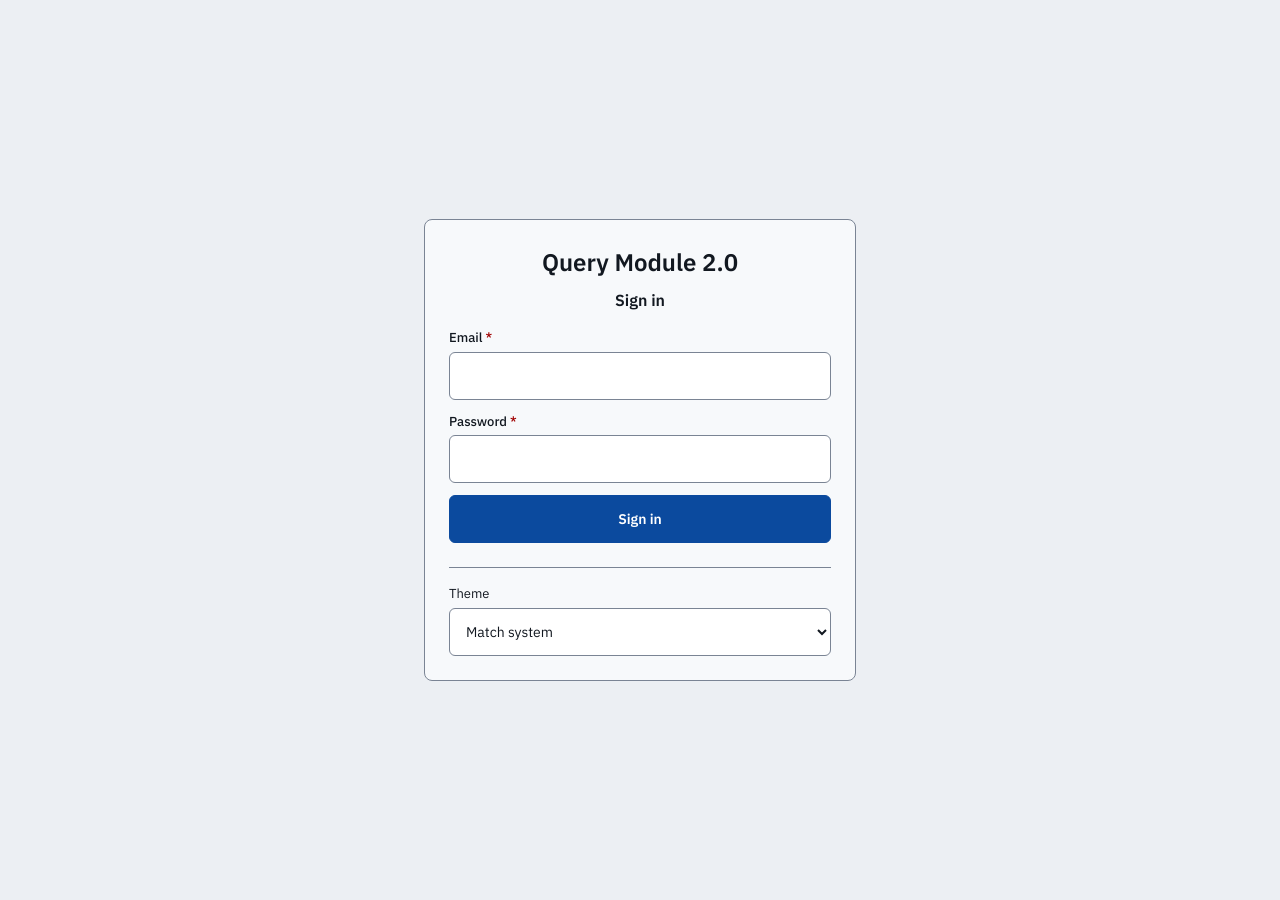
Test: sign-in: a slow preferences load does not pull the user back › a page opened while the preferences load is still pending stays open after it lands
In the field labelled "Email *": [640, 376] box [449, 352, 831, 400], type "tester@querymodule.test"
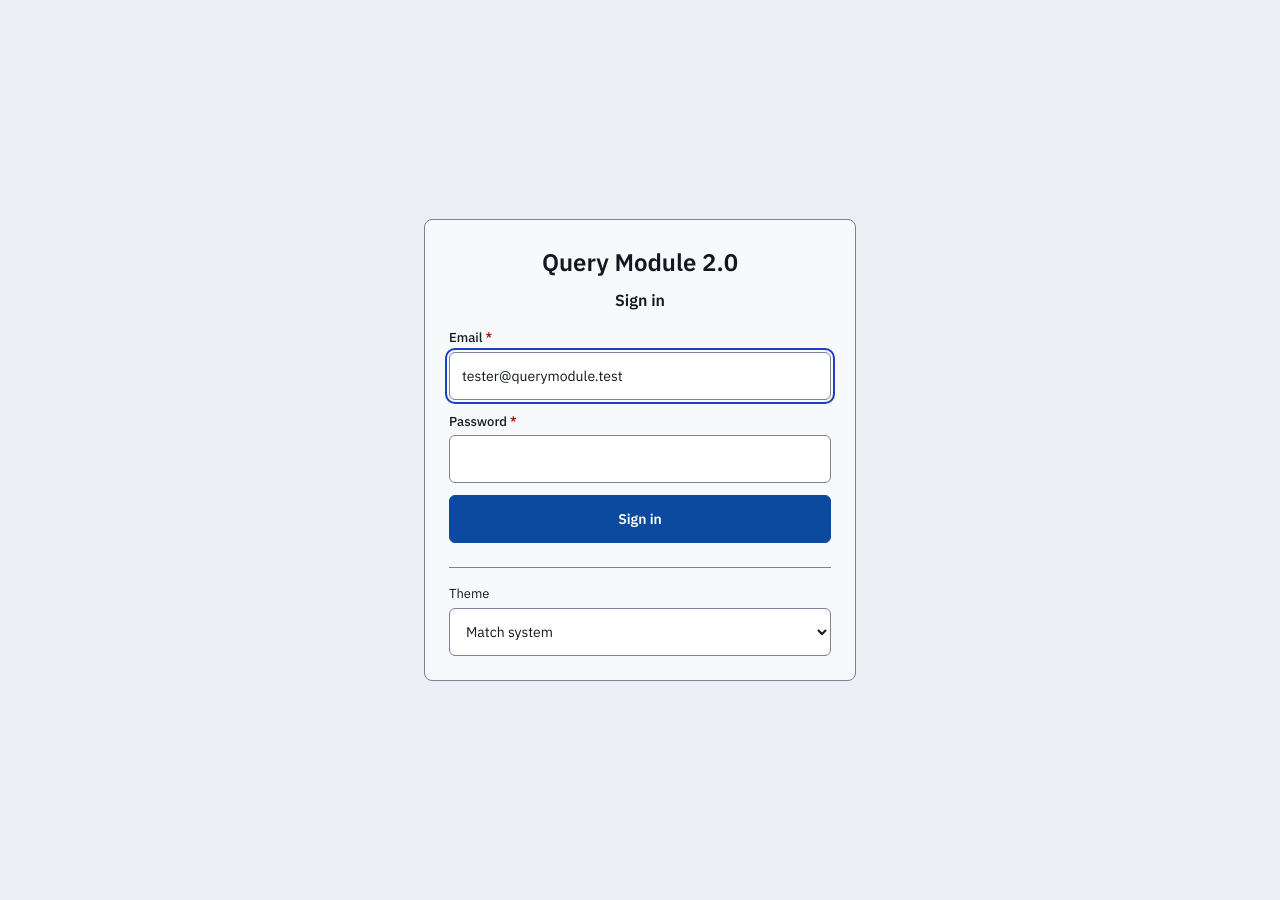
In the password field labelled "Password *": [640, 459] box [449, 435, 831, 483], type "fixture-only-pass"
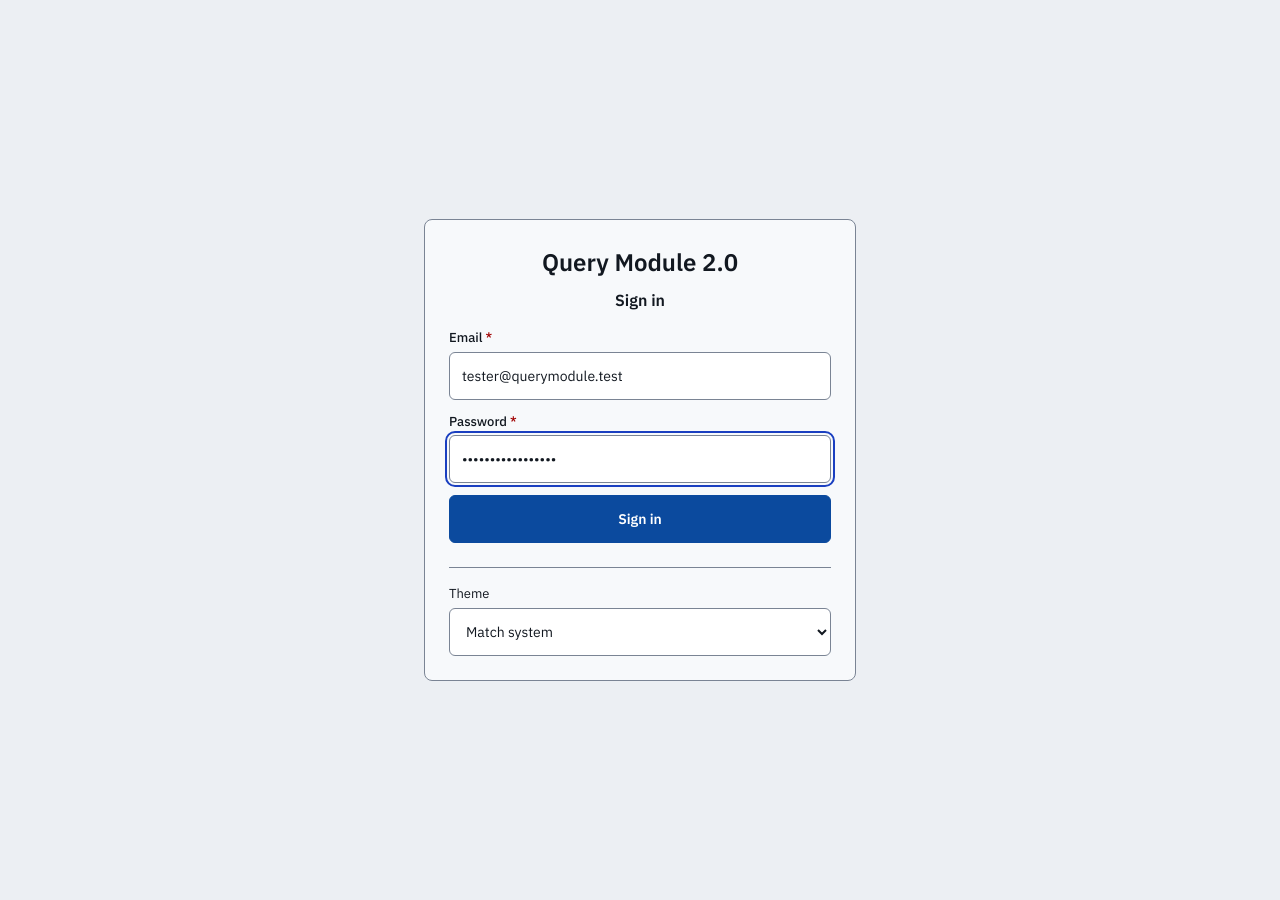
Click the button "Sign in": [640, 519] box [449, 495, 831, 543]
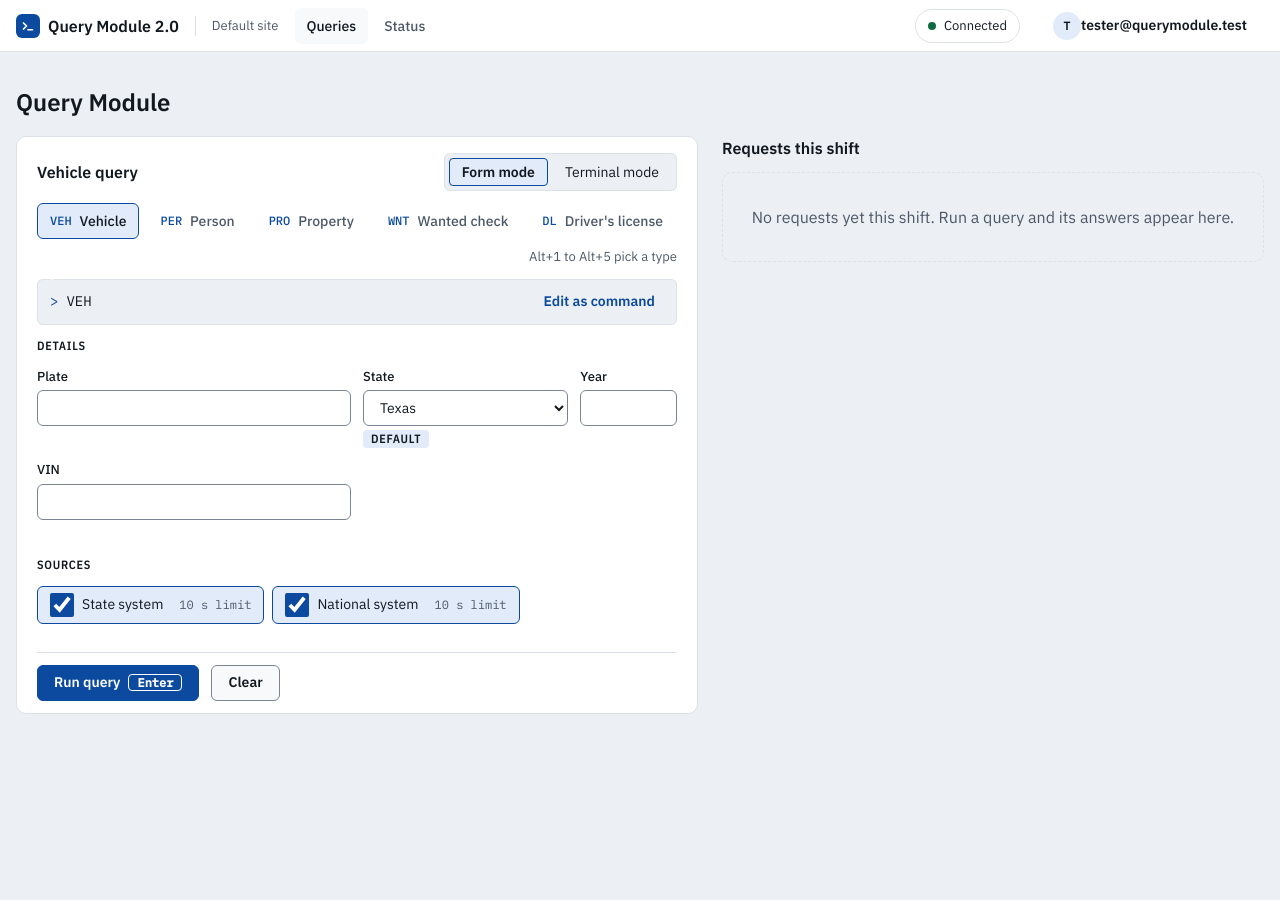
Click the link "Status": [405, 26] box [384, 16, 426, 34]
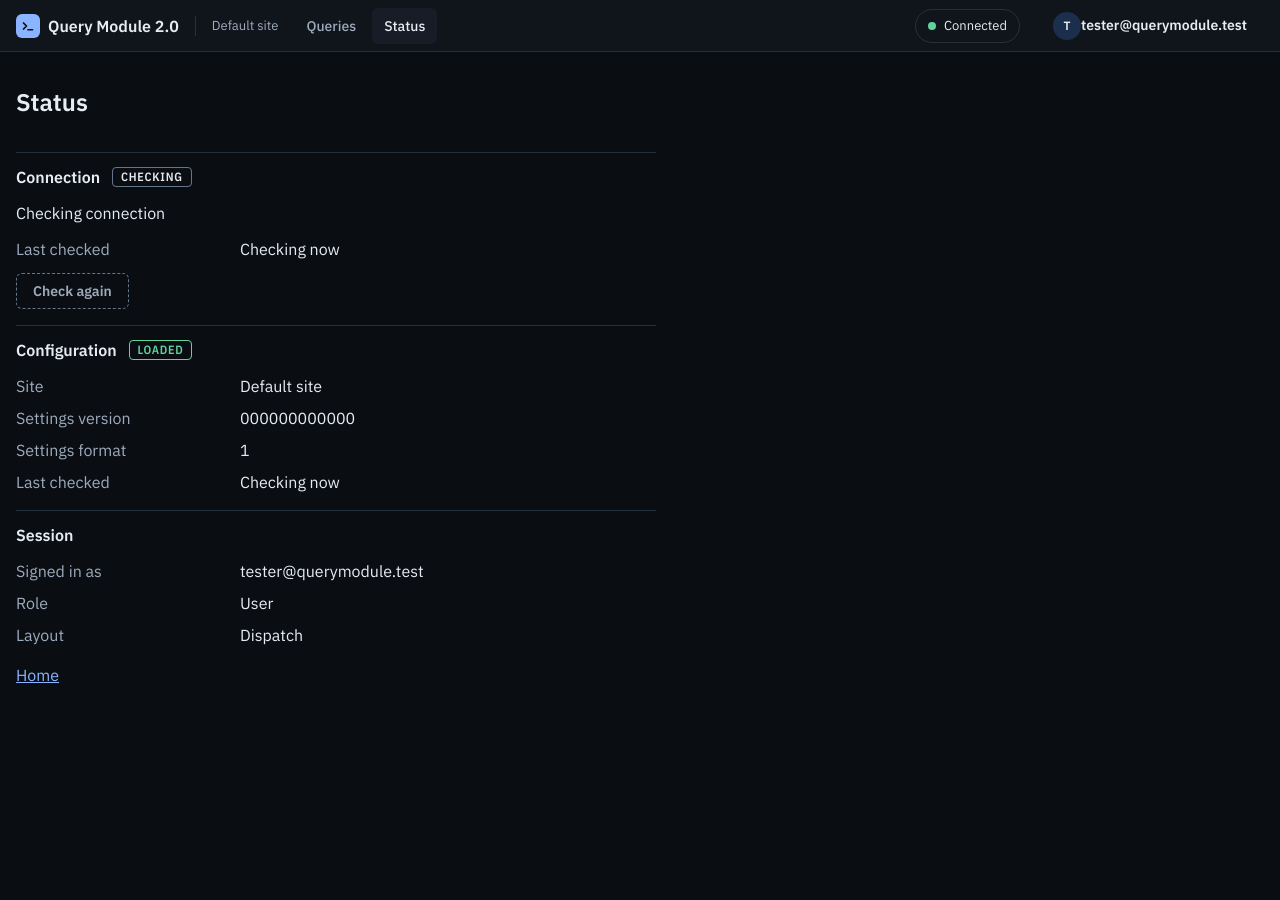
Check: the heading "Status" is shown, box [16, 86, 88, 118]
